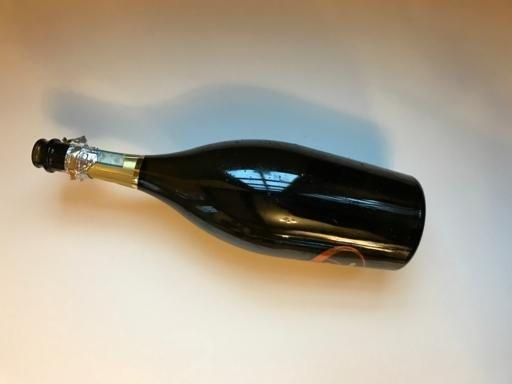botolkaca: (31, 136, 425, 271)
